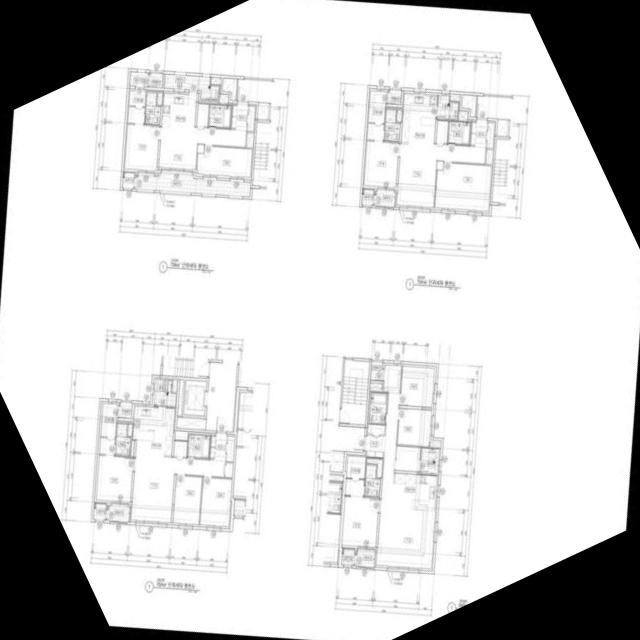background: (0, 0, 640, 640)
space_balconi: (135, 173, 251, 197), (164, 74, 219, 100), (154, 380, 176, 407), (437, 96, 459, 120), (420, 448, 439, 475), (106, 504, 130, 522), (355, 549, 375, 567), (374, 190, 395, 207), (129, 72, 148, 87)
space_bedroom: (435, 163, 491, 211), (342, 497, 379, 547), (96, 455, 134, 502), (197, 146, 252, 178), (364, 141, 399, 188), (125, 124, 159, 171), (200, 478, 232, 527), (400, 366, 434, 408), (173, 476, 202, 525), (397, 408, 431, 447)
space_dressroom: (368, 91, 386, 141), (100, 404, 117, 455), (345, 456, 366, 496), (128, 89, 146, 124)
space_elevator: (184, 380, 207, 416)
space_elevator_hall: (206, 362, 238, 432)
space_front: (231, 102, 255, 131), (471, 119, 494, 148), (210, 432, 227, 461), (365, 435, 385, 458)
space_kitchen: (132, 406, 175, 456), (401, 93, 438, 144), (392, 473, 437, 511), (162, 92, 197, 127)
space_living_room: (376, 365, 435, 569), (131, 453, 225, 523), (397, 143, 486, 207), (159, 125, 246, 170)
space_other: (396, 446, 421, 472), (177, 417, 206, 430), (223, 78, 237, 101), (462, 95, 476, 117), (367, 459, 383, 478), (197, 104, 209, 127), (436, 121, 448, 144), (177, 380, 184, 416), (371, 362, 384, 381), (173, 441, 188, 457), (118, 402, 132, 419), (226, 436, 235, 462), (149, 73, 163, 88), (257, 103, 269, 120), (497, 119, 508, 137), (387, 90, 401, 104), (368, 424, 385, 435), (225, 463, 233, 478), (486, 149, 493, 164), (246, 133, 253, 148), (370, 383, 382, 390), (458, 112, 467, 121), (157, 93, 163, 105), (219, 96, 228, 104), (211, 78, 221, 85), (450, 96, 460, 102), (131, 441, 135, 456), (430, 442, 440, 448), (397, 110, 402, 122), (172, 381, 177, 392), (128, 424, 132, 436)
space_outdoor_room: (341, 549, 355, 566), (122, 172, 135, 189), (361, 189, 374, 205), (93, 504, 106, 520)
space_staircase: (341, 360, 370, 425)
space_toilet: (369, 392, 387, 424), (448, 121, 471, 145), (209, 105, 232, 128), (145, 92, 161, 125), (115, 423, 131, 456), (384, 109, 400, 142), (364, 465, 380, 497), (188, 435, 210, 458)
